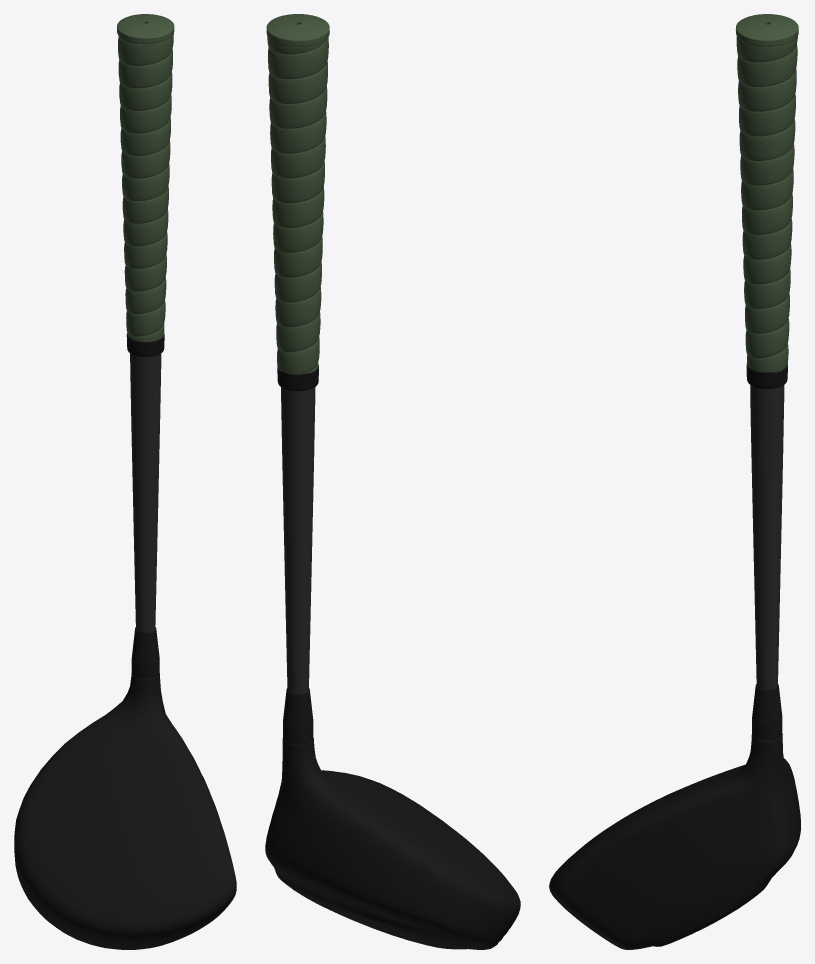
The picture shows the model from 3 angles, left to right: view 1: azimuth 30°, elevation 25°; view 2: azimuth 150°, elevation 25°; view 3: azimuth 270°, elevation 25°; orthographic projection. The views are drawn at different scales.
Visible parts, largest first — view 1: Cylinder, Lathe, Cylinder_3, Cylinder_1_2; view 2: Cylinder, Lathe, Cylinder_3, Cylinder_1_2; view 3: Cylinder, Lathe, Cylinder_3, Cylinder_1_2.
Boxes of the visible parts, x1,y1,x2,y2 form: Cylinder: (14, 353, 236, 949); Lathe: (118, 34, 173, 341); Cylinder_3: (117, 14, 174, 43); Cylinder_1_2: (126, 333, 164, 356); Cylinder: (265, 387, 520, 949); Lathe: (267, 36, 328, 374); Cylinder_3: (266, 14, 329, 46); Cylinder_1_2: (277, 365, 318, 390); Cylinder: (549, 385, 800, 949); Lathe: (736, 36, 797, 372); Cylinder_3: (735, 14, 798, 46); Cylinder_1_2: (746, 363, 787, 388).
Size of the model in its own units: 18.11 by 20.02 by 82.6.
